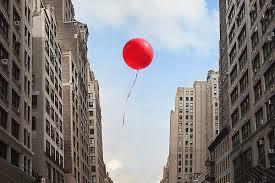red: (122, 37, 153, 71)
